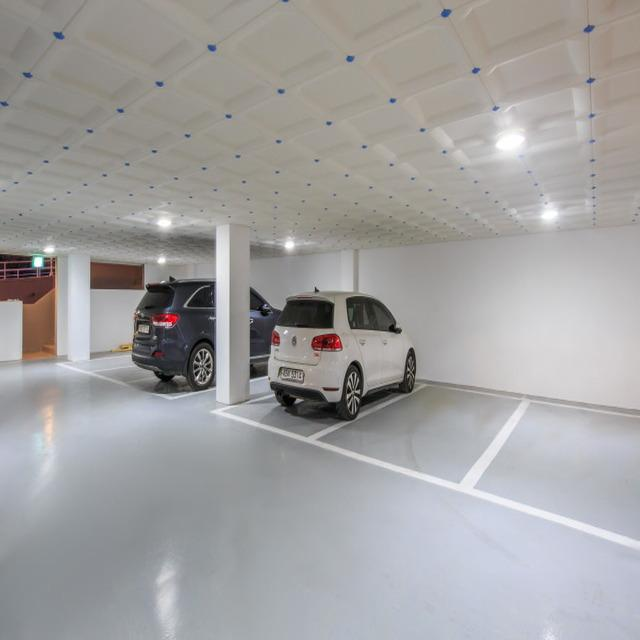empty: (456, 396, 640, 551), (301, 383, 530, 494)
occupied: (272, 289, 420, 417)
